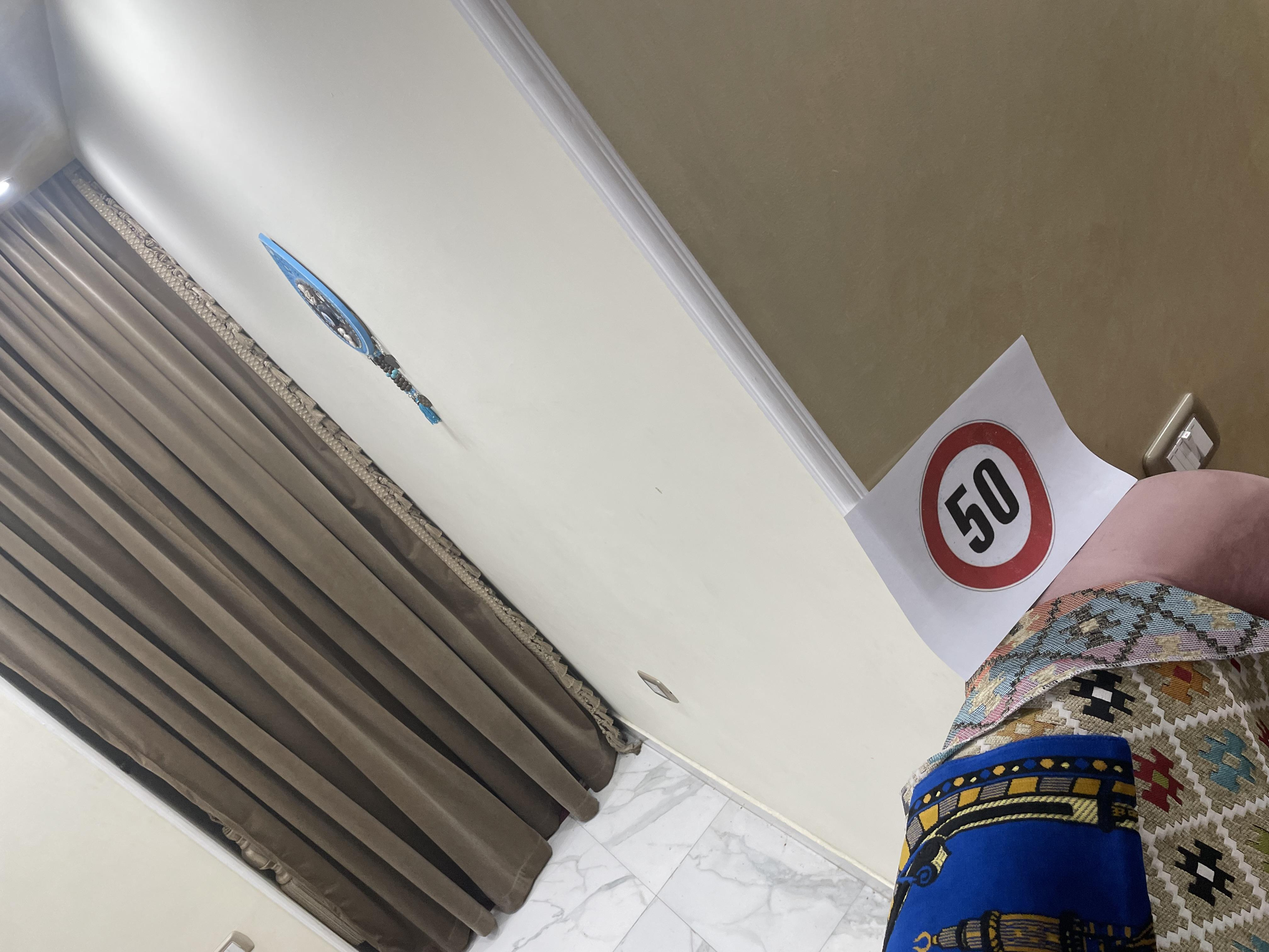50-Speed: (480, 686, 713, 794)
